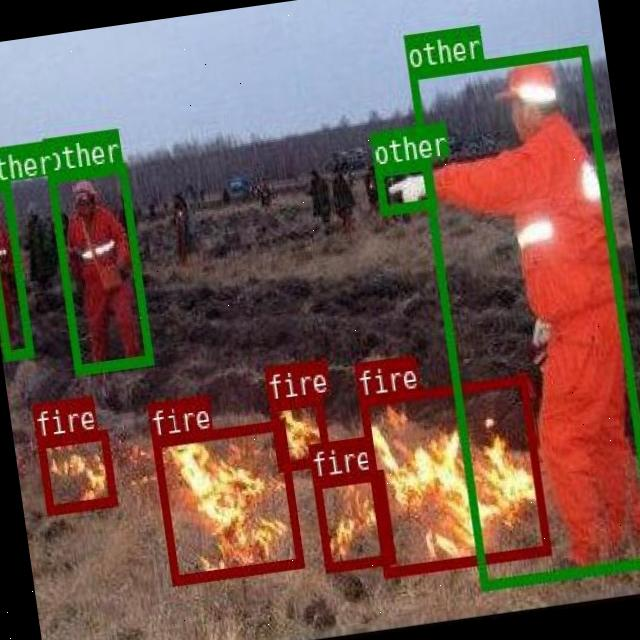fire: (357, 373, 550, 576), (152, 419, 304, 585), (311, 469, 393, 572), (36, 428, 116, 514), (268, 394, 330, 469)
